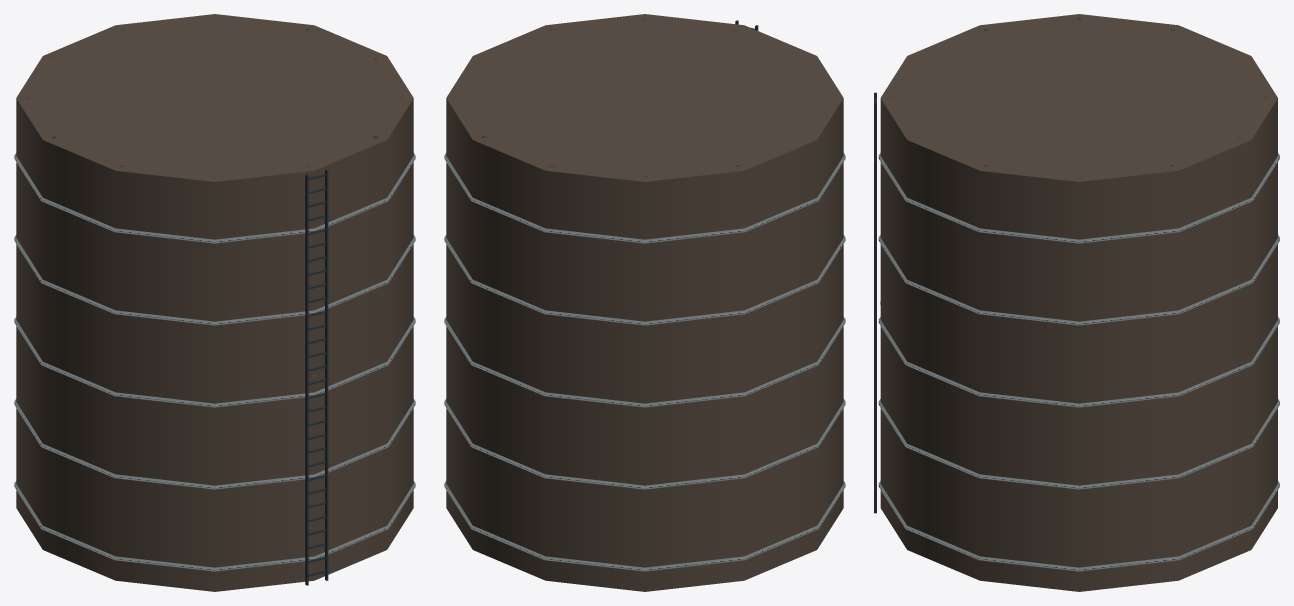
Rendered from gas-holder-3.glb.
3 views of the same model, side by side, from view 1: azimuth 30°, elevation 25°; view 2: azimuth 150°, elevation 25°; view 3: azimuth 270°, elevation 25° (orthographic).
Visible parts, largest first — view 1: gas-holder/2/KR-230-3; view 2: gas-holder/2/KR-230-3; view 3: gas-holder/2/KR-230-3.
Part boxes in pixels (box(x1,y1,x2,y2)): gas-holder/2/KR-230-3: box(14, 14, 415, 591); gas-holder/2/KR-230-3: box(444, 14, 845, 591); gas-holder/2/KR-230-3: box(874, 14, 1279, 591).
Size of the model in its own units: 15.97 by 18 by 16.16.
